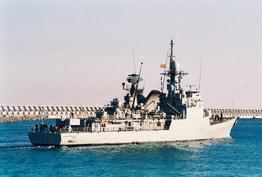warship: (27, 43, 237, 147)
